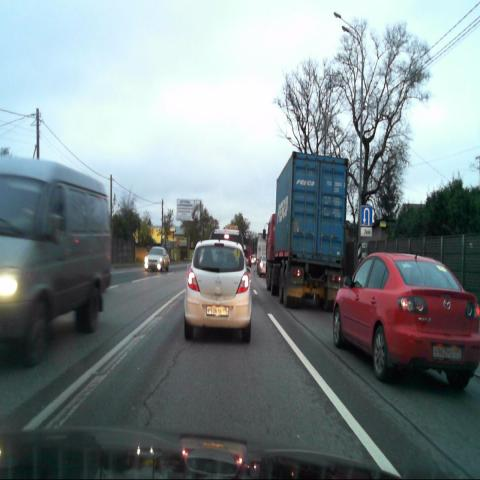6_3_1: (360, 206, 372, 226)
